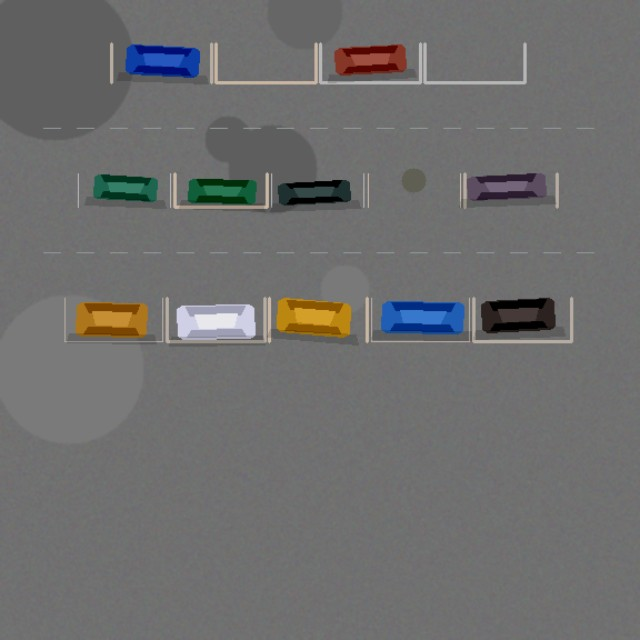space-empty: (216, 43, 316, 82), (424, 43, 524, 82), (368, 173, 460, 207)
space-occupied: (64, 298, 162, 341), (269, 298, 367, 341), (371, 298, 469, 341), (473, 298, 571, 341), (167, 298, 264, 341), (111, 43, 211, 82), (320, 43, 420, 82), (174, 173, 267, 207), (464, 173, 557, 207), (78, 173, 170, 207), (271, 173, 363, 207)
